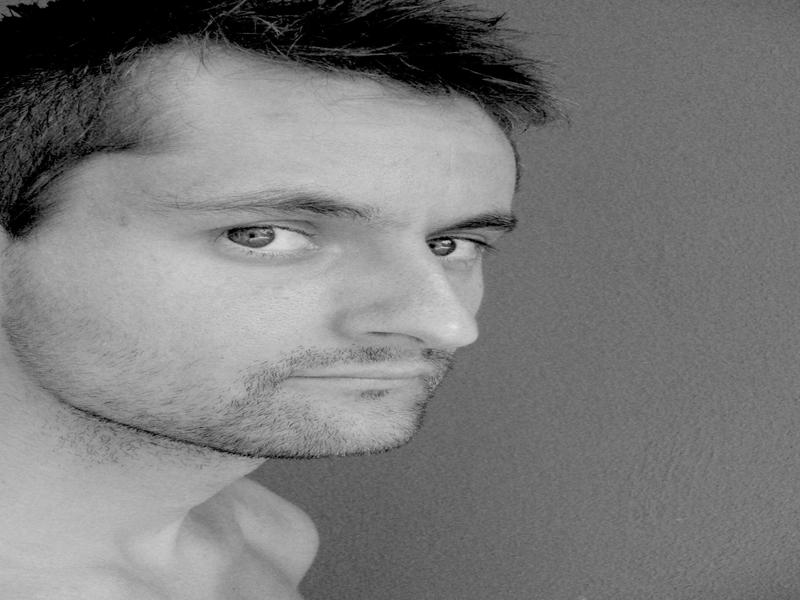person: (1, 9, 525, 596)
